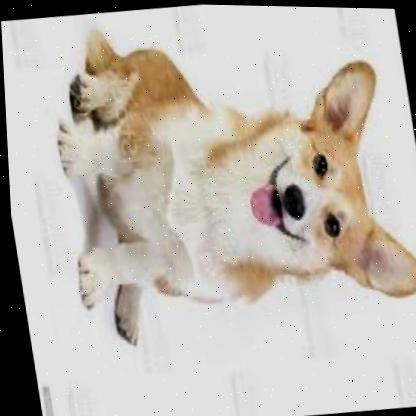dog: (35, 1, 416, 356)
